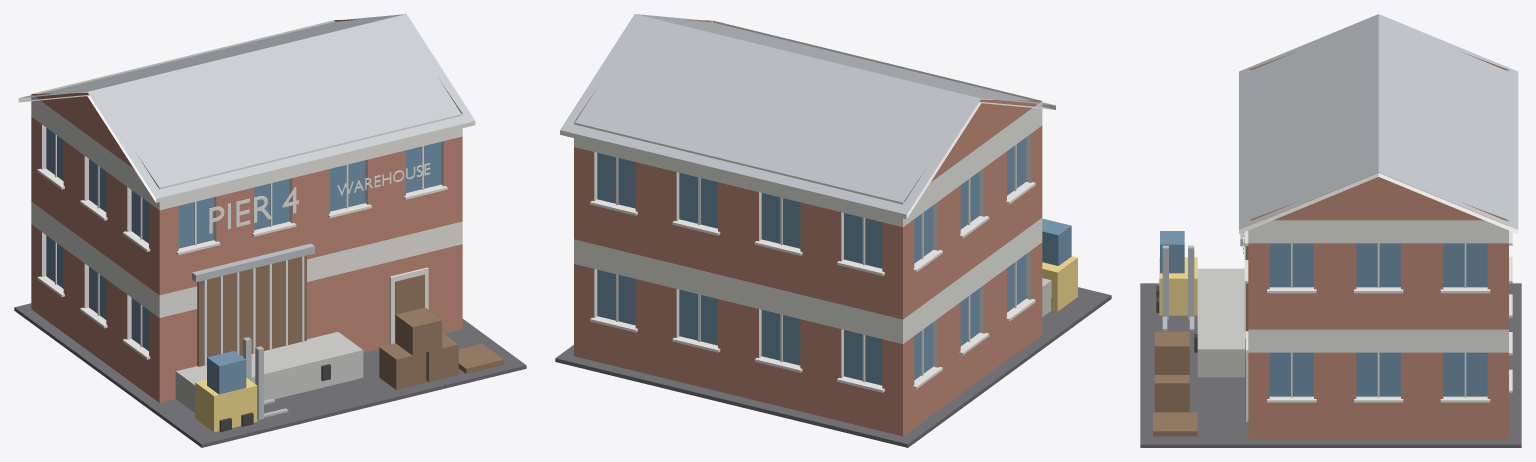
The model's file is warehouse.glb.
3 renders of one model, left to right at view 1: azimuth 30°, elevation 25°; view 2: azimuth 150°, elevation 25°; view 3: azimuth 270°, elevation 25°, orthographic. The views are drawn at different scales.
Visible parts, largest first — view 1: warehouse; view 2: warehouse; view 3: warehouse.
Boxes of the visible parts, x1,y1,x2,y2 form: warehouse: [14, 14, 526, 447]; warehouse: [555, 14, 1111, 447]; warehouse: [1140, 14, 1521, 447].
Size of the model in its own units: 12 by 9.52 by 12.
